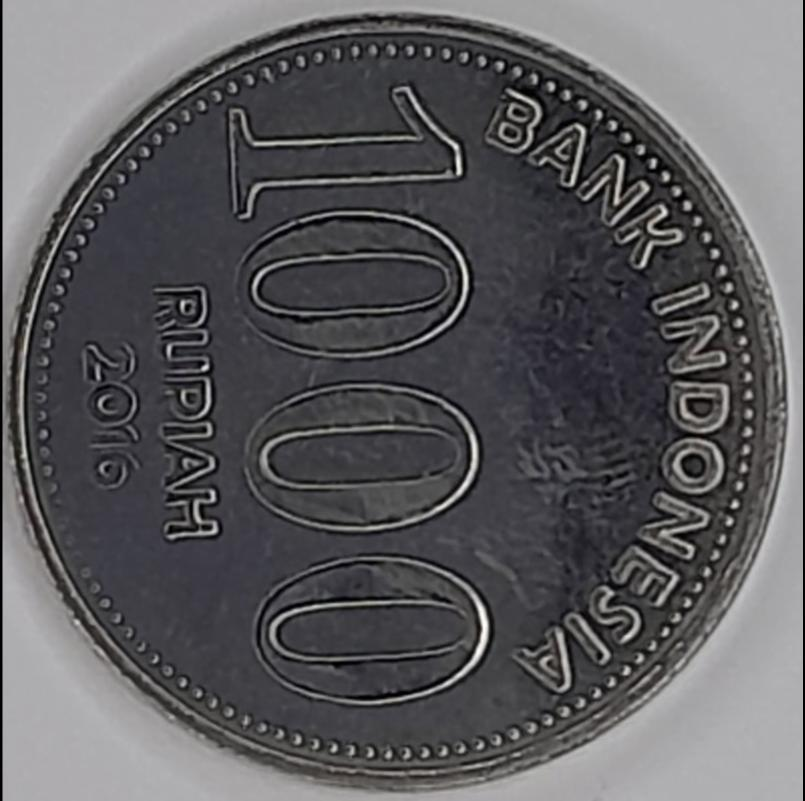coin_1000_e2016: (14, 16, 794, 801)
